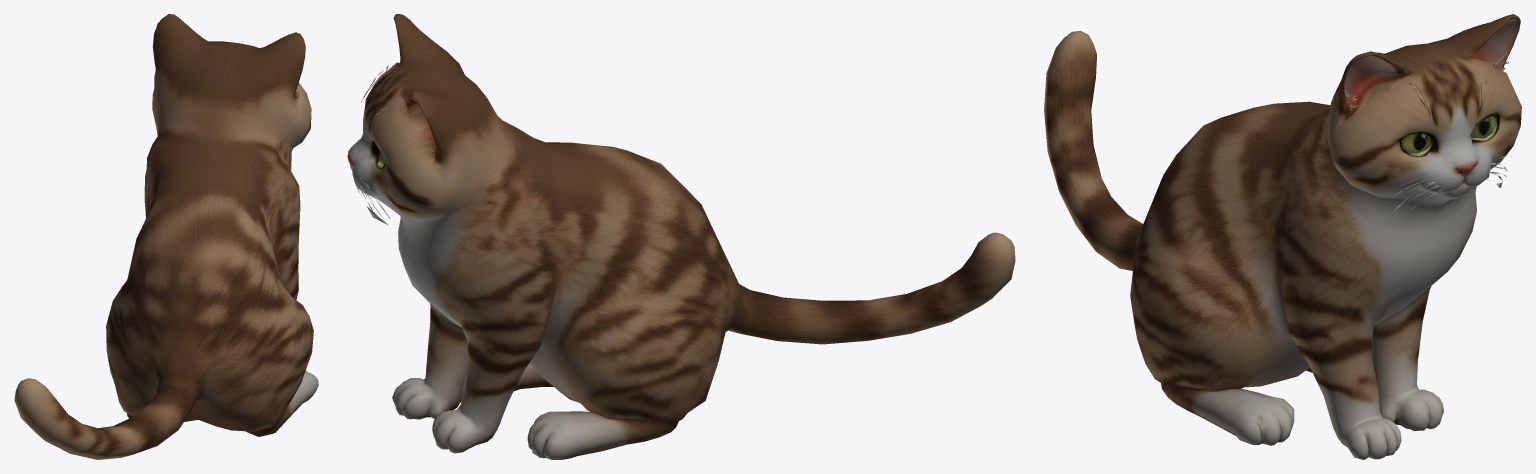
The model's file is 10b09fde-674b-4333-8acf-bb21281b3eb6_model.glb.
The picture shows the model from 3 angles, left to right: view 1: azimuth 30°, elevation 25°; view 2: azimuth 150°, elevation 25°; view 3: azimuth 270°, elevation 25°; orthographic projection. The views are drawn at different scales.
Visible parts, largest first — view 1: tripo_node_1e9a1b85-a9f9-474a-98b0-8658f6743030; view 2: tripo_node_1e9a1b85-a9f9-474a-98b0-8658f6743030; view 3: tripo_node_1e9a1b85-a9f9-474a-98b0-8658f6743030.
Part boxes in pixels (box(x1,y1,x2,y2)): tripo_node_1e9a1b85-a9f9-474a-98b0-8658f6743030: box(14, 14, 318, 459); tripo_node_1e9a1b85-a9f9-474a-98b0-8658f6743030: box(347, 14, 1015, 459); tripo_node_1e9a1b85-a9f9-474a-98b0-8658f6743030: box(1044, 14, 1521, 459).
Bounding box in the file's own units: 0.998 × 0.7637 × 0.791.
1 material, 1 textured.
